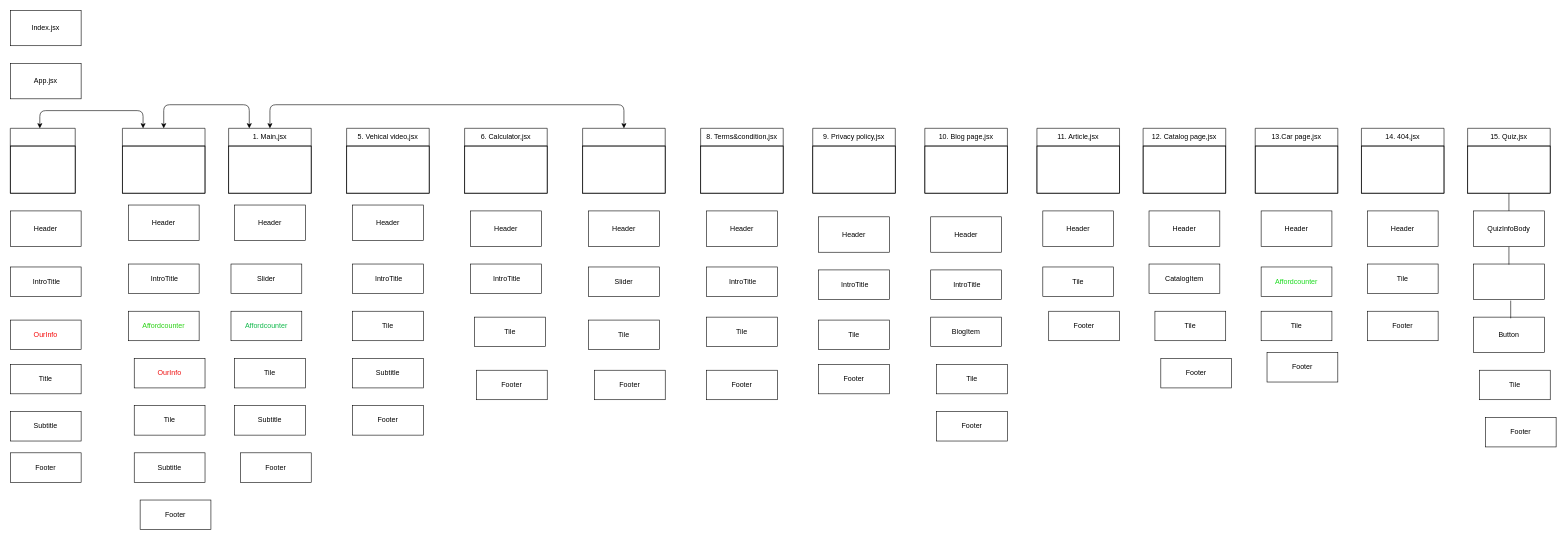
This 1566x540 diagram has some shape labels left out. The shapes that lost their labels are listed below. From the top down, each one's box as (x1, y1, x2, y2) in pixels, then its label:
(10, 128, 75, 193): 2. About,jsx
(122, 128, 205, 193): 3. Loan rates
(582, 128, 665, 193): 7. Contact us,jsx
(1473, 263, 1544, 299): Input
